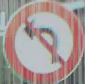Don't turn left: (6, 2, 76, 75)
